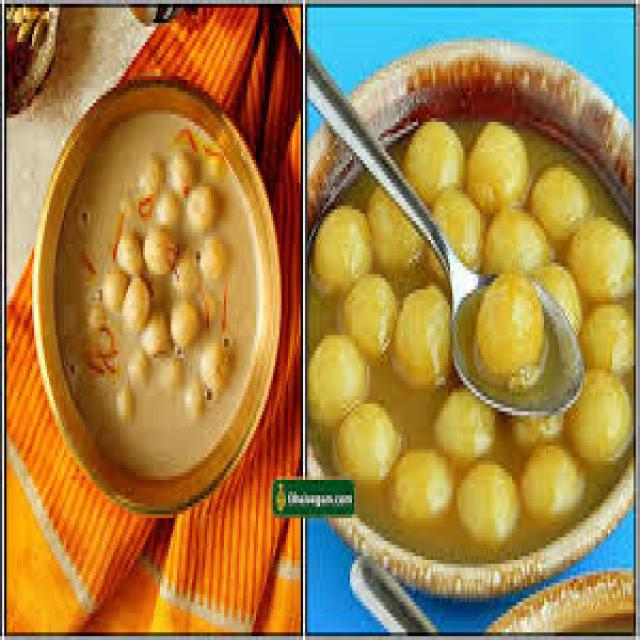paal kolukattai: (297, 91, 640, 587), (52, 121, 253, 452)
